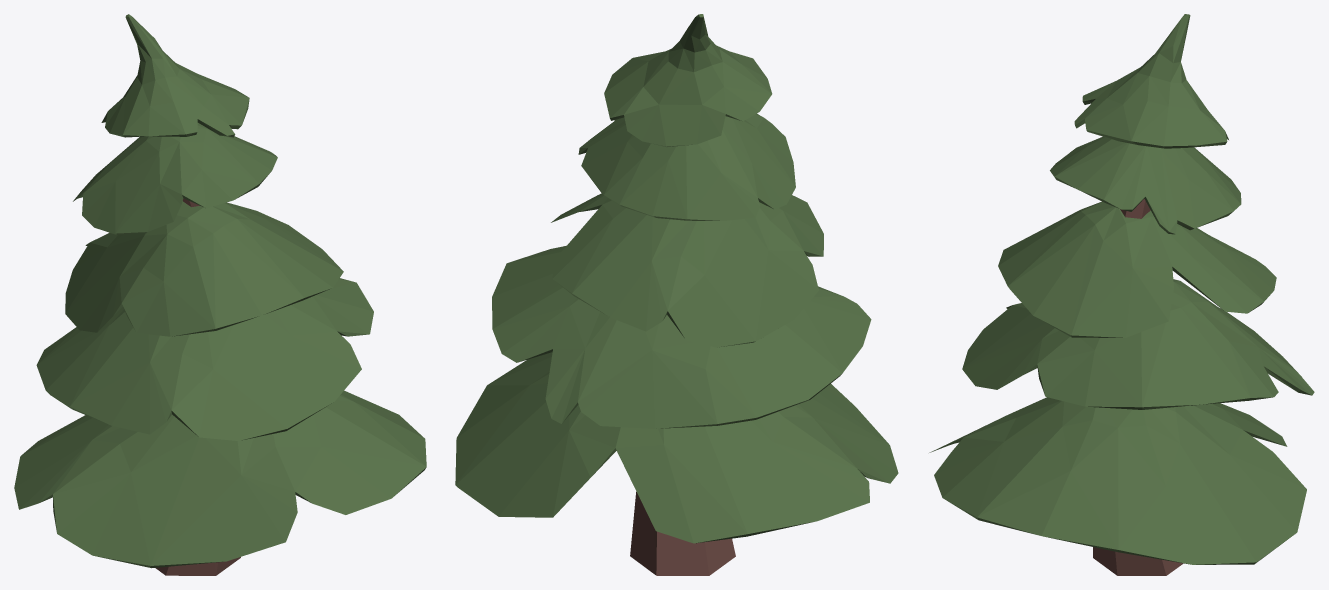
The model's file is PineTree_1.lod1.glb.
3 views of the same model, side by side, from view 1: azimuth 30°, elevation 25°; view 2: azimuth 150°, elevation 25°; view 3: azimuth 270°, elevation 25° (orthographic). The views are drawn at different scales.
Visible parts, largest first — view 1: PineTree_1; view 2: PineTree_1; view 3: PineTree_1.
Boxes of the visible parts, bbox=[...] form: PineTree_1: bbox=[14, 14, 426, 575]; PineTree_1: bbox=[455, 14, 898, 575]; PineTree_1: bbox=[929, 14, 1314, 575].
Size of the model in its own units: 1.95 by 2.7 by 1.8.
